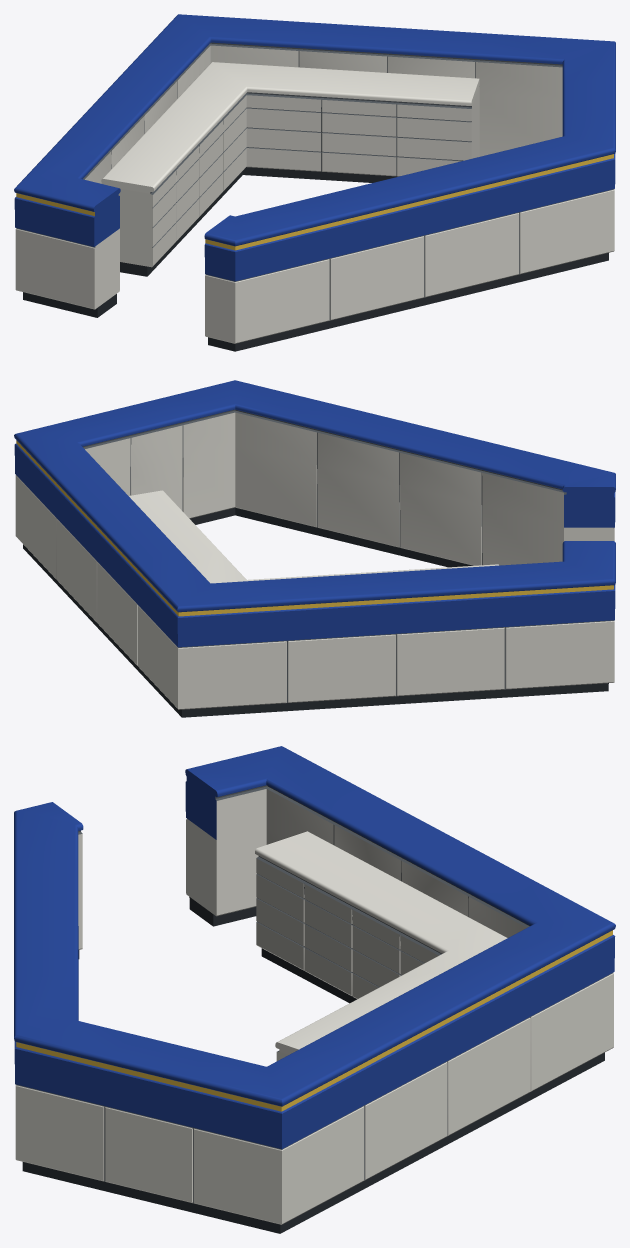
The model's file is checkout-counter-shield-rounded-2010.glb.
3 renders of one model, top to bottom at view 1: azimuth 30°, elevation 25°; view 2: azimuth 150°, elevation 25°; view 3: azimuth 270°, elevation 25°, orthographic. The views are drawn at different scales.
Visible parts, largest first — view 1: shield-surround-0.003, shield-work-cabinet.003; view 2: shield-surround-0.003, shield-work-cabinet.003; view 3: shield-surround-0.003, shield-work-cabinet.003.
Boxes of the visible parts, box(x1,y1,x2,y2) form: shield-surround-0.003: box(14, 14, 615, 351); shield-work-cabinet.003: box(101, 62, 479, 276); shield-surround-0.003: box(14, 380, 615, 717); shield-work-cabinet.003: box(129, 490, 498, 583); shield-surround-0.003: box(14, 746, 615, 1233); shield-work-cabinet.003: box(255, 831, 507, 1060).
Bounding box in the file's own units: 19.6 × 3.54 × 14.
